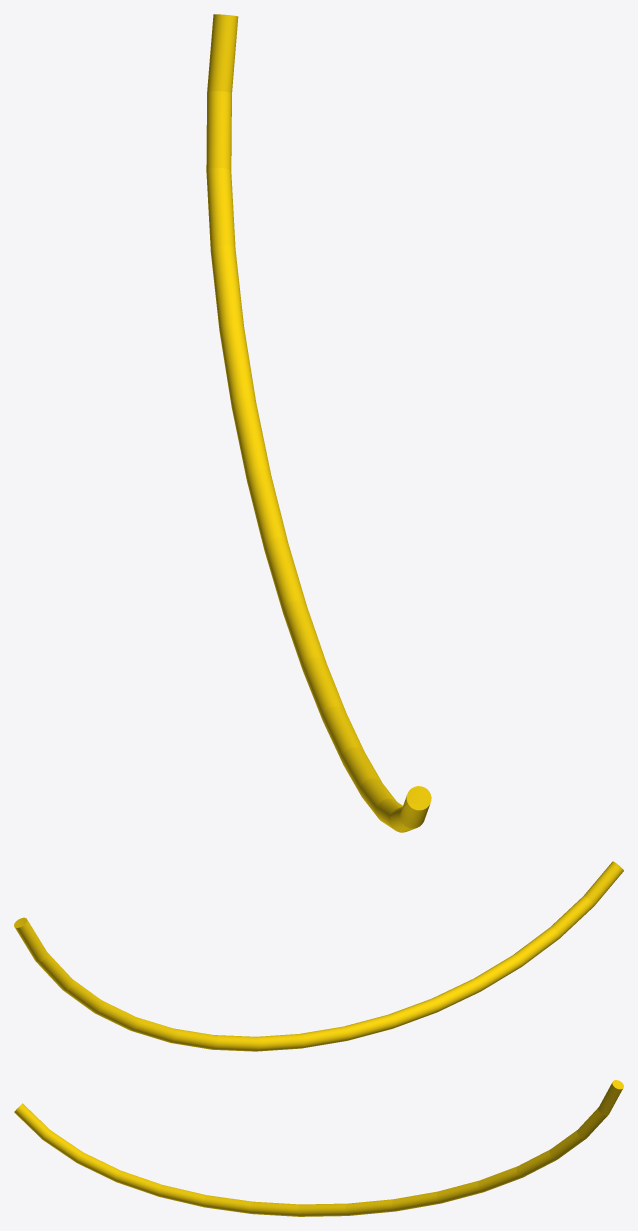
The model's file is Event_421115418_track_76.fbx.
The picture shows the model from 3 angles, top to bottom: view 1: azimuth 30°, elevation 25°; view 2: azimuth 150°, elevation 25°; view 3: azimuth 270°, elevation 25°; orthographic projection. The views are drawn at different scales.
Visible parts, largest first — view 1: Model; view 2: Model; view 3: Model.
Part boxes in pixels (<box>): Model: <box>206,14,431,832</box>; Model: <box>14,861,623,1051</box>; Model: <box>14,1080,623,1216</box>.
Bounding box in the file's own units: 0.7861 × 0.6835 × 1.94.
